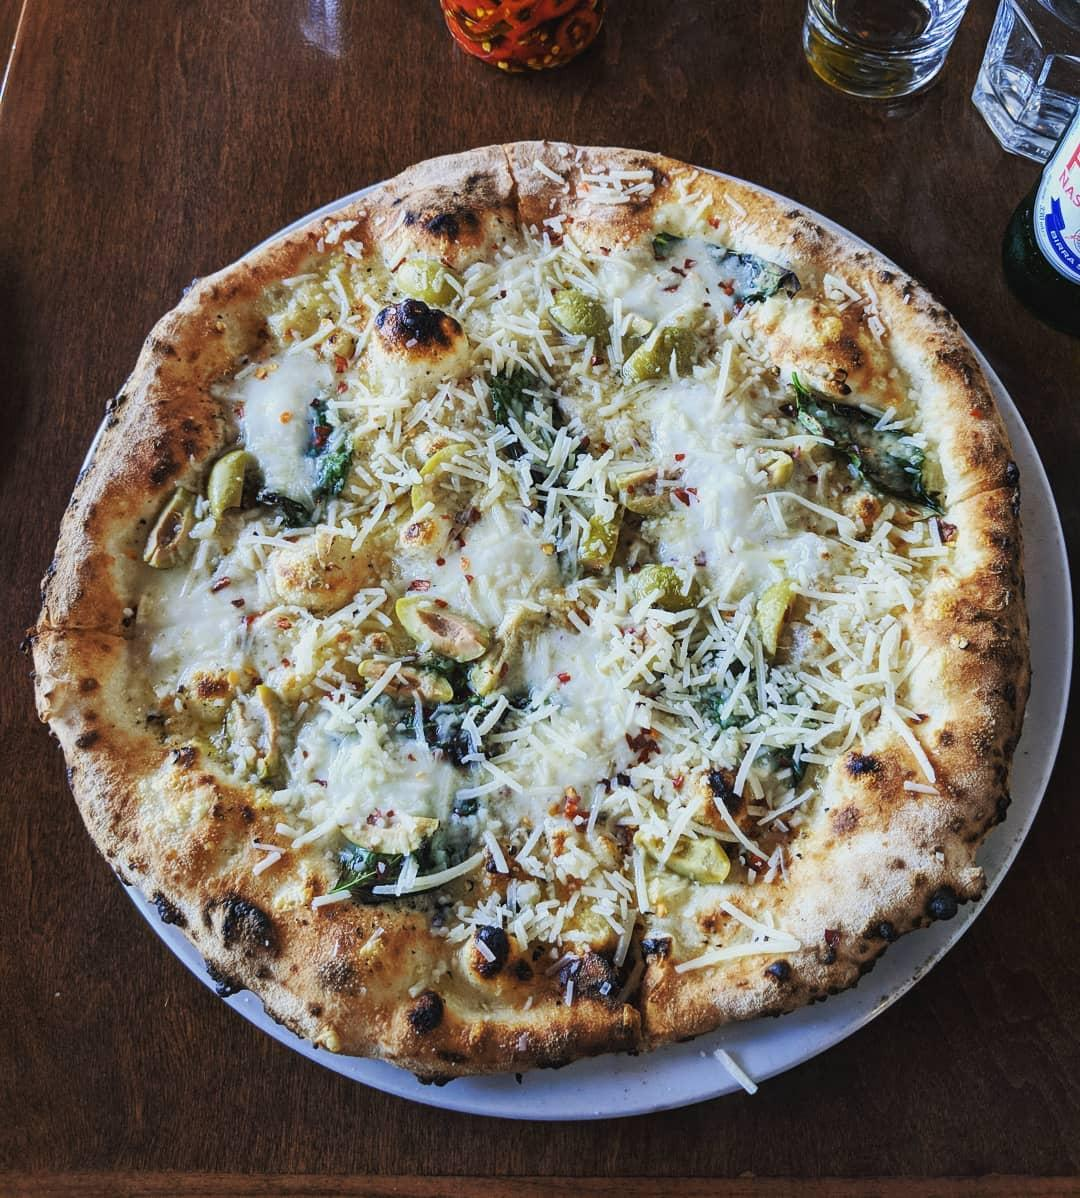Cheese: (513, 631, 637, 773), (663, 406, 768, 563), (133, 568, 245, 661), (431, 518, 542, 609), (308, 740, 426, 817), (473, 230, 542, 335), (243, 381, 321, 469), (603, 250, 677, 325)
Chicken: (638, 821, 755, 889), (273, 538, 383, 603), (395, 583, 474, 669), (250, 611, 330, 683), (211, 698, 276, 763), (193, 440, 232, 505)
Olives: (403, 438, 481, 521), (623, 315, 709, 370), (736, 343, 794, 419), (748, 586, 808, 657), (556, 286, 598, 345)
Pizza: (50, 150, 1034, 1061)
